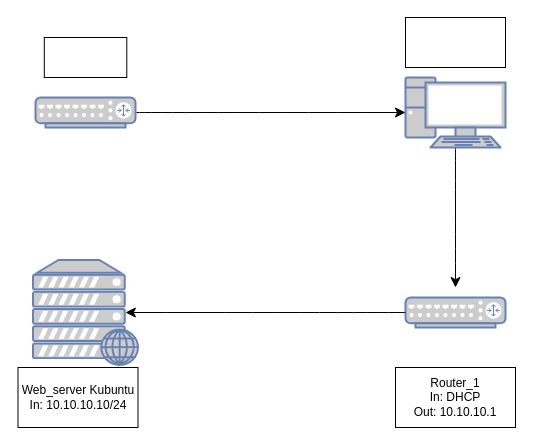
This 533x445 diagram has some shape labels left out. Here are the shapes that lost their labels. From the top down, the centre of each, then its label:
(x=85, y=57): Internet
(x=455, y=42): VirtualBox NAT DHCP
